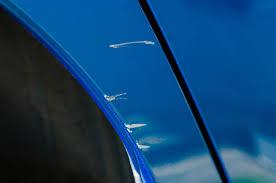scratch: (116, 116, 158, 159), (101, 36, 162, 51), (99, 86, 135, 108)
